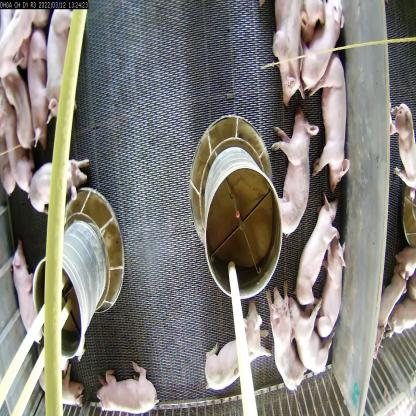Pig: (204, 308, 269, 396), (271, 112, 315, 240), (38, 4, 85, 115), (291, 193, 333, 314), (316, 54, 350, 190), (298, 4, 342, 103), (30, 157, 94, 220), (269, 0, 306, 101), (22, 34, 55, 143), (269, 296, 306, 392), (96, 362, 159, 415), (8, 252, 41, 349), (5, 65, 35, 164), (0, 99, 27, 202), (317, 246, 345, 344), (292, 304, 331, 373)
